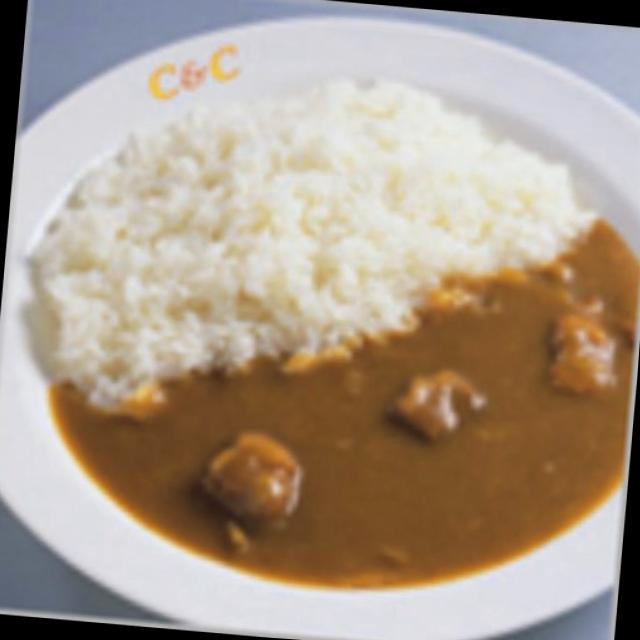Beef Curry: (75, 196, 640, 609)
Rice: (43, 61, 562, 342)
